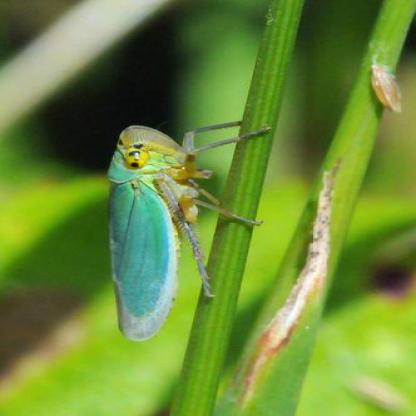Green-Leafhopper: (96, 113, 276, 349)
